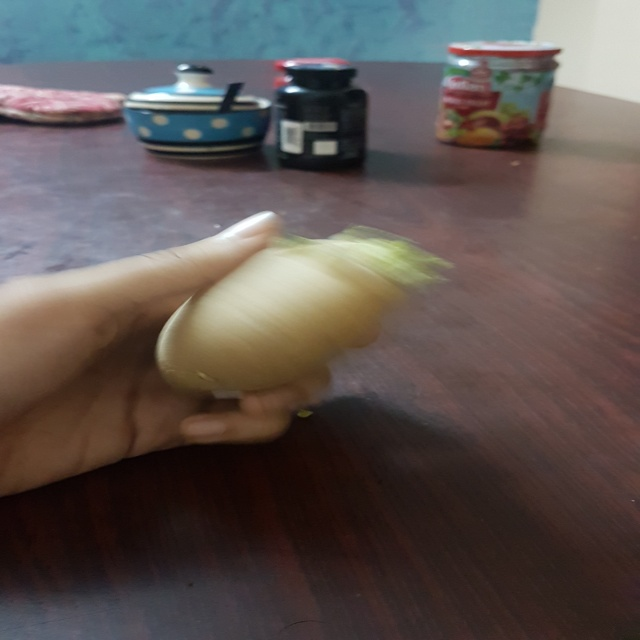potato: (159, 202, 460, 408)
